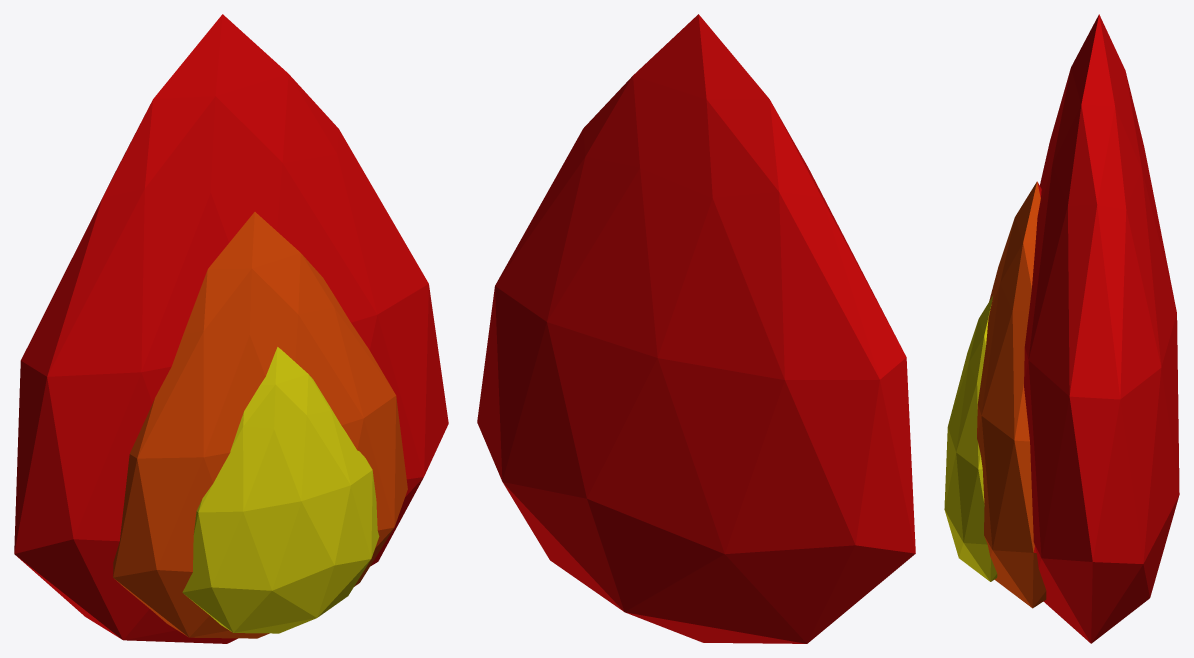
File: fire.dae
3 renders of one model, left to right at view 1: azimuth 30°, elevation 25°; view 2: azimuth 150°, elevation 25°; view 3: azimuth 270°, elevation 25°, orthographic. The views are drawn at different scales.
Visible parts, largest first — view 1: Flame; view 2: Flame; view 3: Flame.
Part boxes in pixels (x1,y1,x2,y2): Flame: (14, 14, 448, 643); Flame: (477, 14, 915, 643); Flame: (944, 14, 1179, 643).
Bounding box in the file's own units: 1.02 × 0.4975 × 1.41.
